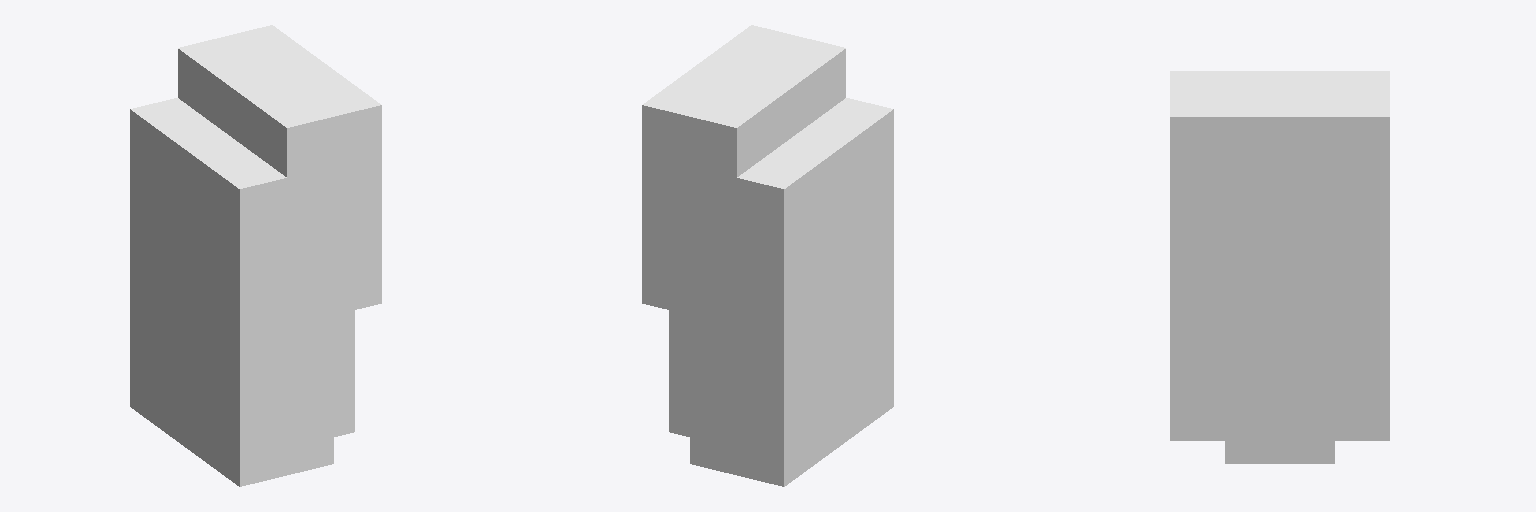
File: char-8-arm_up_med_2_3_a_sh_color.obj
The picture shows the model from 3 angles: view 1: azimuth 30°, elevation 25°; view 2: azimuth 150°, elevation 25°; view 3: azimuth 270°, elevation 25°; orthographic projection.
Visible parts, largest first — view 1: arm_up_med_2_3_a_sh_color; view 2: arm_up_med_2_3_a_sh_color; view 3: arm_up_med_2_3_a_sh_color.
Boxes of the visible parts, x1=… form: arm_up_med_2_3_a_sh_color: x1=130, y1=25, x2=381, y2=486; arm_up_med_2_3_a_sh_color: x1=642, y1=25, x2=893, y2=486; arm_up_med_2_3_a_sh_color: x1=1170, y1=71, x2=1389, y2=463.
Size of the model in its own units: 0.3 by 0.7 by 0.4.